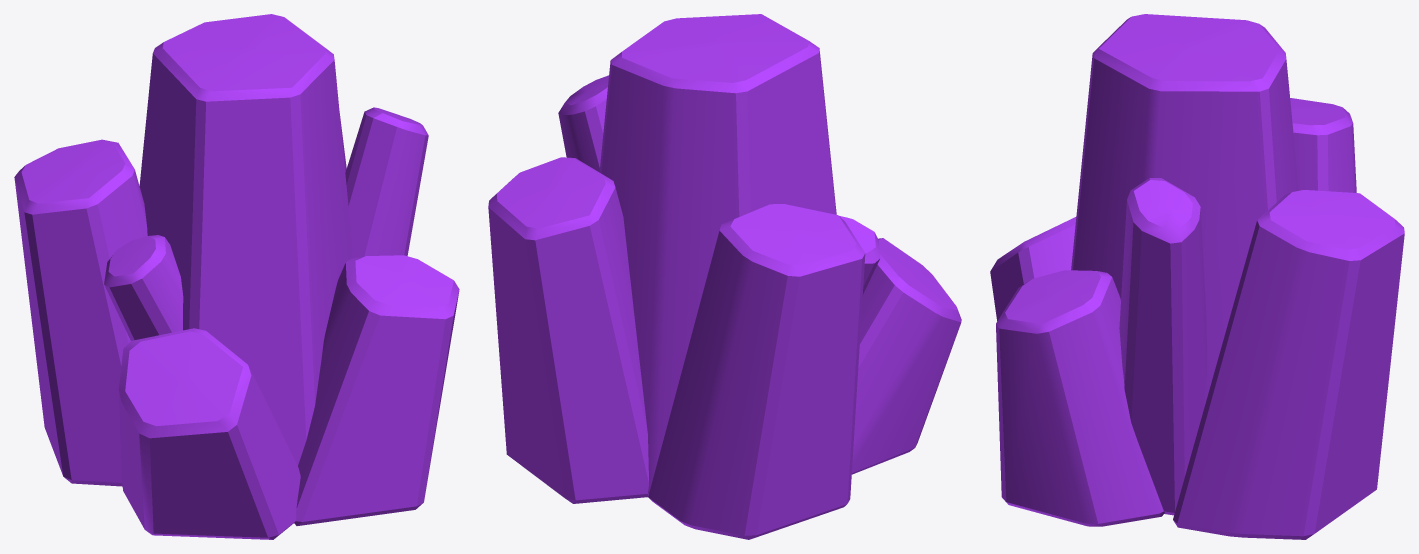
Rendered from nat_crystal_cluster_6.glb.
3 renders of one model, left to right at view 1: azimuth 30°, elevation 25°; view 2: azimuth 150°, elevation 25°; view 3: azimuth 270°, elevation 25°, orthographic. The views are drawn at different scales.
Visible parts, largest first — view 1: nat_crystal_cluster_6; view 2: nat_crystal_cluster_6; view 3: nat_crystal_cluster_6.
Boxes of the visible parts, <box> form: nat_crystal_cluster_6: <box>14,14,459,539</box>; nat_crystal_cluster_6: <box>488,14,961,539</box>; nat_crystal_cluster_6: <box>990,14,1404,539</box>.
Size of the model in its own units: 2.85 by 3.2 by 2.87.
